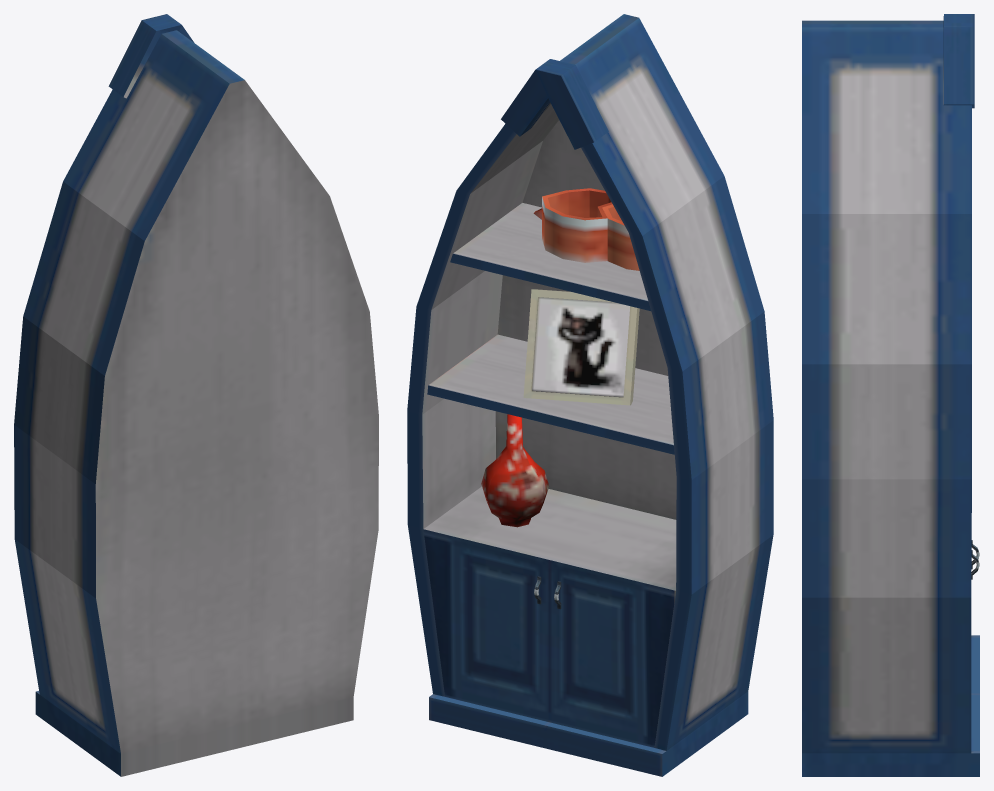
The model's file is furni_0200050_01.FBX.
3 views of the same model, side by side, from view 1: azimuth 30°, elevation 25°; view 2: azimuth 150°, elevation 25°; view 3: azimuth 270°, elevation 25° (orthographic). The views are drawn at different scales.
Parts seen in each view (by area): view 1: furni_0200050; view 2: furni_0200050; view 3: furni_0200050.
Part boxes in pixels (x1=…): furni_0200050: x1=14, y1=14, x2=378, y2=776; furni_0200050: x1=407, y1=14, x2=773, y2=776; furni_0200050: x1=802, y1=14, x2=979, y2=776.
Size of the model in its own units: 80 by 181 by 41.87.
